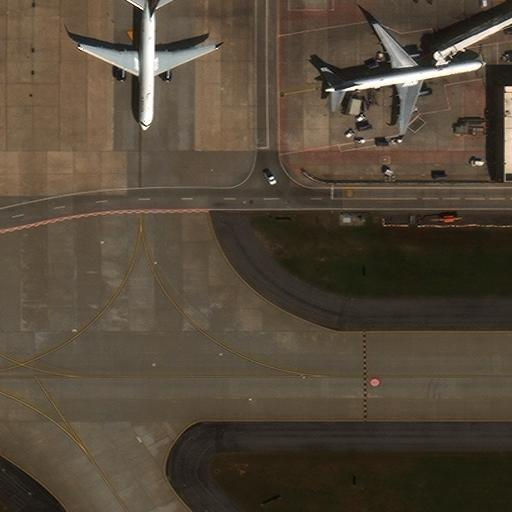Large Civil Transport: (77, 0, 219, 130), (323, 22, 486, 133)
